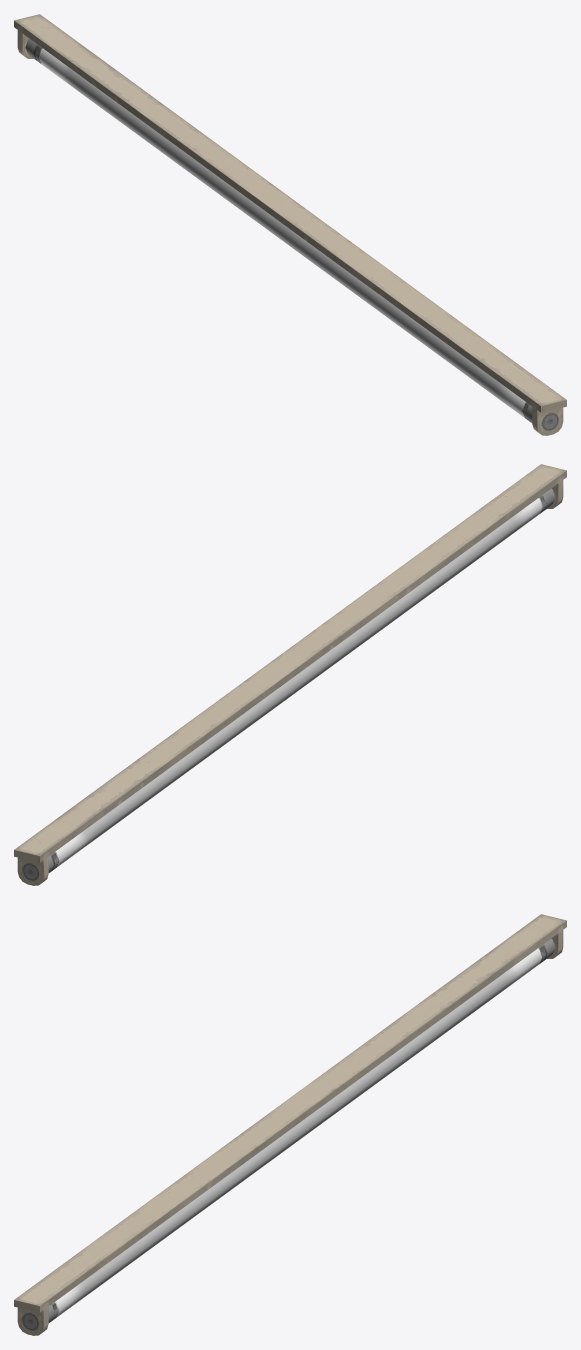
Rendered from HH_Lamp_03.fbx.
The picture shows the model from 3 angles, top to bottom: view 1: azimuth 30°, elevation 25°; view 2: azimuth 150°, elevation 25°; view 3: azimuth 330°, elevation 25°; orthographic projection.
Visible parts, largest first — view 1: HH_Lamp_03; view 2: HH_Lamp_03; view 3: HH_Lamp_03.
Part boxes in pixels (x1=…): HH_Lamp_03: x1=14, y1=14, x2=566, y2=435; HH_Lamp_03: x1=14, y1=464, x2=566, y2=885; HH_Lamp_03: x1=14, y1=914, x2=566, y2=1335.
Size of the model in its own units: 5.21 by 6.68 by 184.
